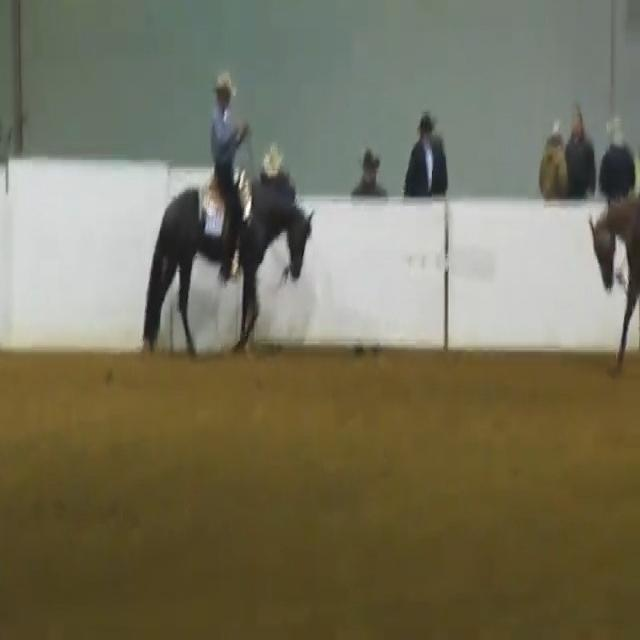horse: (137, 60, 321, 382)
